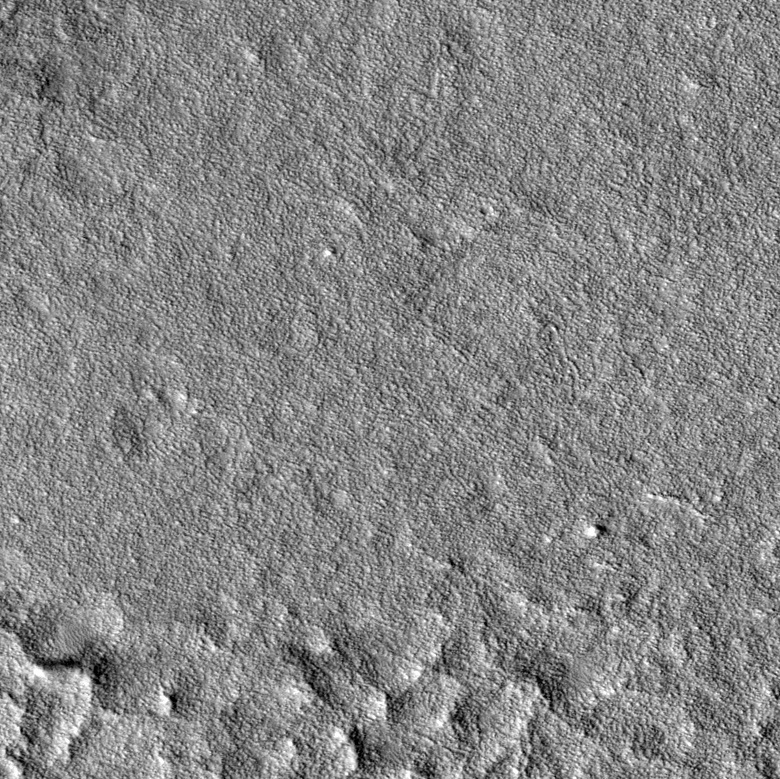dust_devil: (28, 654, 85, 681)
